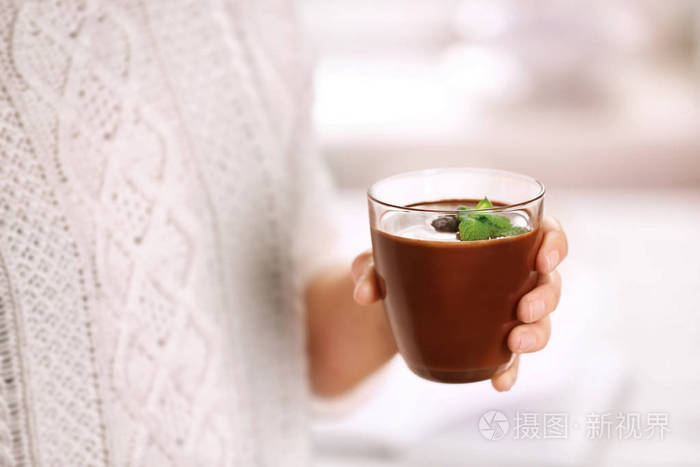no-phone: (345, 158, 571, 397)
